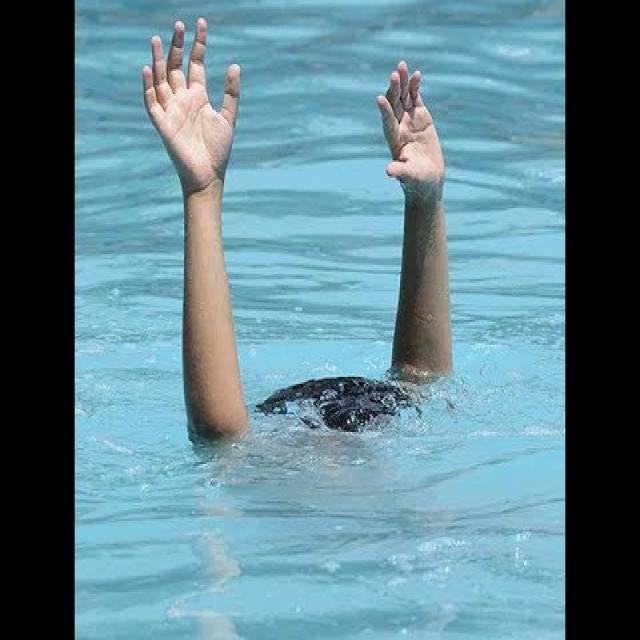Drowning: (137, 13, 464, 455)
